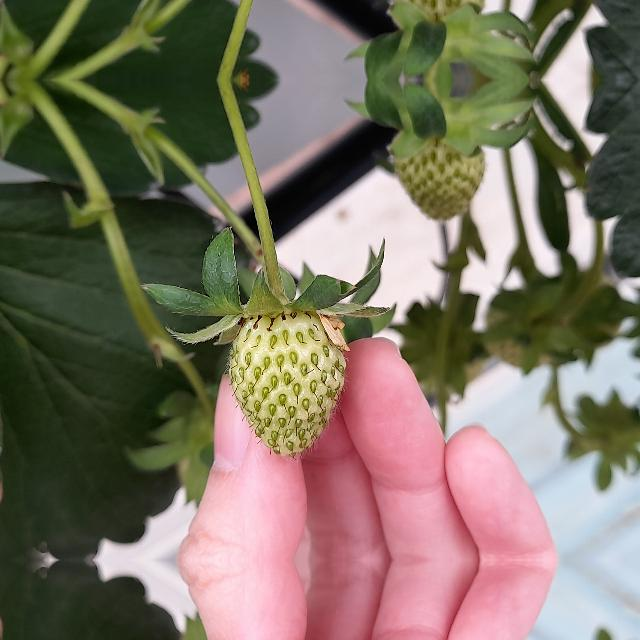Health_25: (228, 311, 346, 455), (396, 124, 484, 223), (396, 0, 483, 35)
